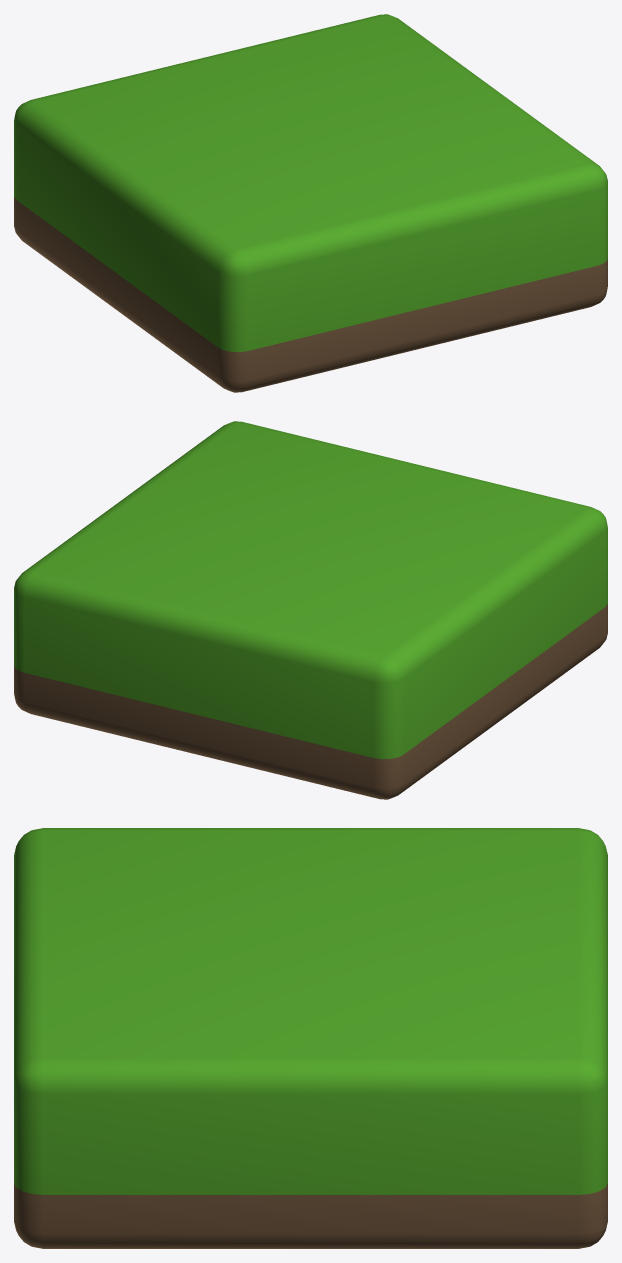
File: Cube-Grass_002.fbx
3 renders of one model, top to bottom at view 1: azimuth 30°, elevation 25°; view 2: azimuth 150°, elevation 25°; view 3: azimuth 270°, elevation 25°, orthographic. The views are drawn at different scales.
Visible parts, largest first — view 1: Cube-Grass.002; view 2: Cube-Grass.002; view 3: Cube-Grass.002.
Part boxes in pixels (x1,y1,x2,y2): Cube-Grass.002: (14,14,607,392); Cube-Grass.002: (14,421,607,799); Cube-Grass.002: (14,828,607,1248).
Size of the model in its own units: 14.29 by 5 by 14.29.
